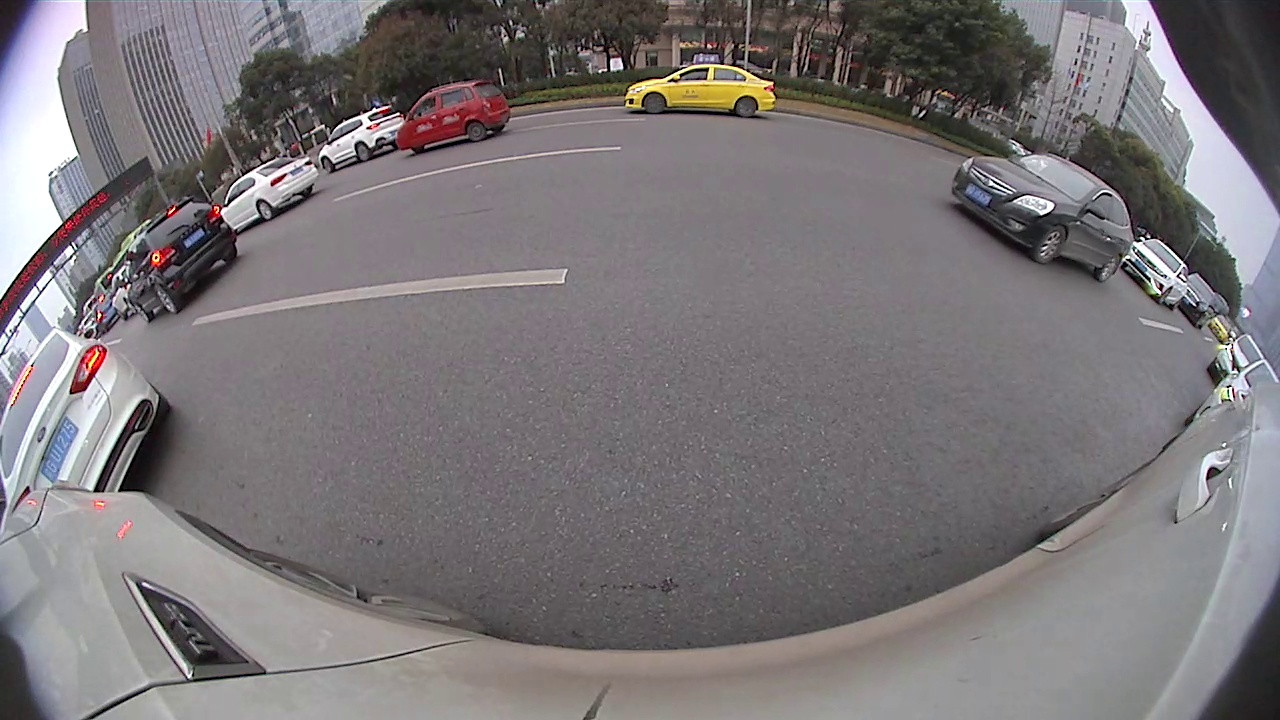car: (2, 326, 176, 505), (947, 147, 1134, 288), (124, 197, 240, 321), (621, 59, 781, 122), (392, 77, 512, 158), (220, 152, 321, 229), (313, 106, 405, 177), (1130, 235, 1189, 310)
front: (1032, 225, 1067, 265), (643, 93, 668, 115), (322, 158, 335, 174)
rear: (153, 283, 180, 315), (1099, 254, 1121, 283), (468, 122, 488, 143), (737, 97, 757, 117), (258, 201, 274, 223), (355, 143, 372, 163)
